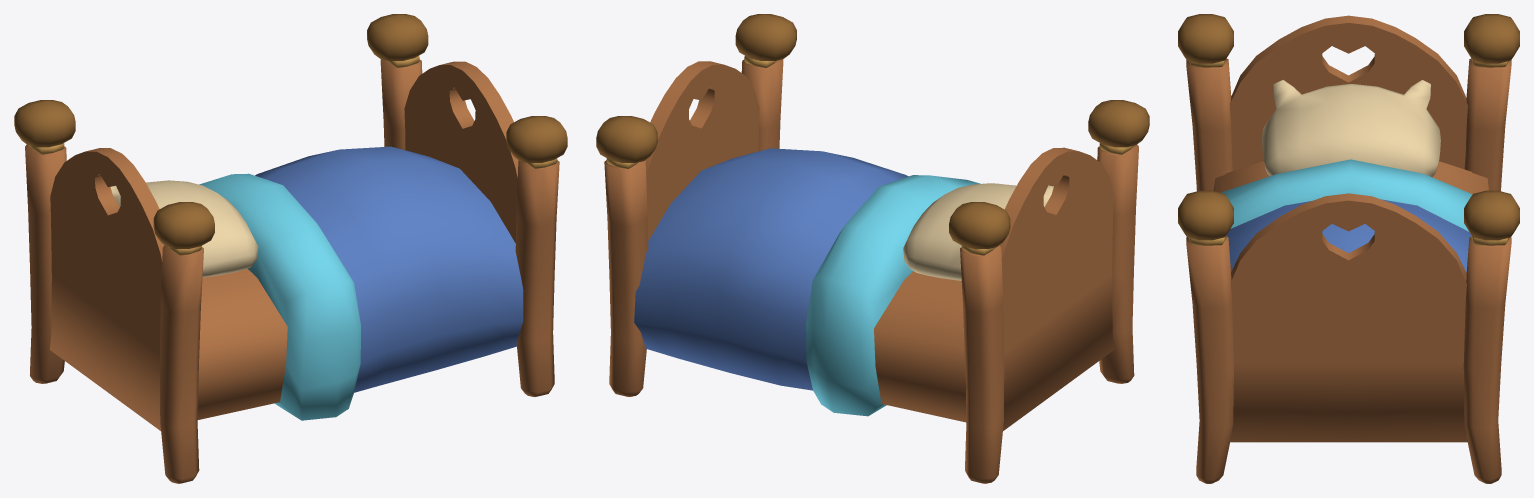
File: props_simpleBed.fbx
3 views of the same model, side by side, from view 1: azimuth 30°, elevation 25°; view 2: azimuth 150°, elevation 25°; view 3: azimuth 270°, elevation 25° (orthographic). The views are drawn at different scales.
Visible parts, largest first — view 1: simple_bed; view 2: simple_bed; view 3: simple_bed.
Boxes of the visible parts, x1=… form: simple_bed: x1=14, y1=14, x2=567, y2=483; simple_bed: x1=596, y1=14, x2=1149, y2=483; simple_bed: x1=1178, y1=14, x2=1519, y2=483.
Size of the model in its own units: 2.17 by 1.55 by 1.42.
